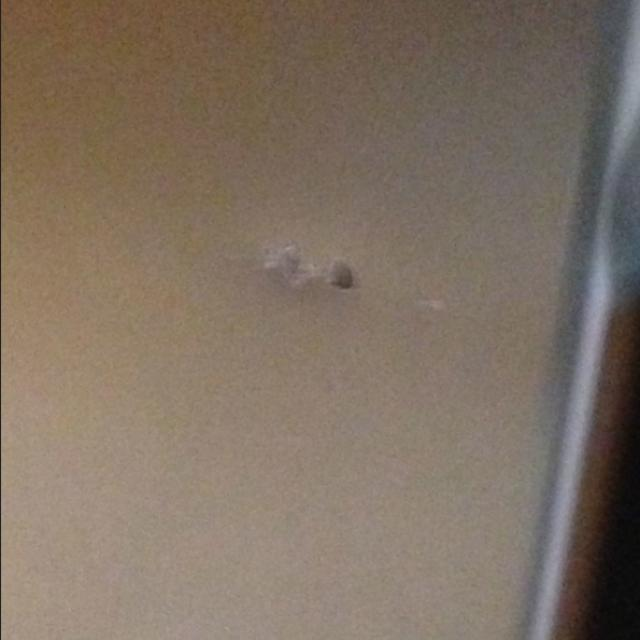dents: (240, 236, 394, 326)
